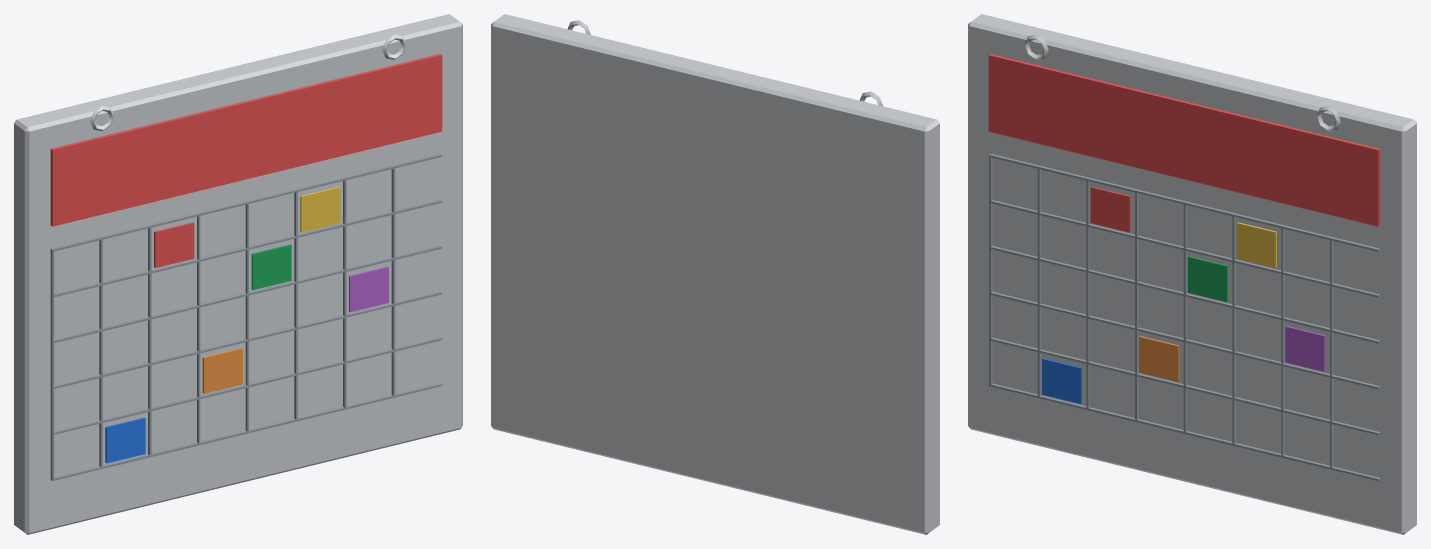
File: desk_calendar.glb
3 renders of one model, left to right at view 1: azimuth 30°, elevation 25°; view 2: azimuth 150°, elevation 25°; view 3: azimuth 330°, elevation 25°, orthographic.
Parts seen in each view (by area): view 1: desk_calendar; view 2: desk_calendar; view 3: desk_calendar.
Boxes of the visible parts, x1=… form: desk_calendar: x1=14, y1=14, x2=462, y2=534; desk_calendar: x1=491, y1=14, x2=939, y2=534; desk_calendar: x1=968, y1=14, x2=1416, y2=534.
Size of the model in its own units: 0.9 by 0.815 by 0.065.
